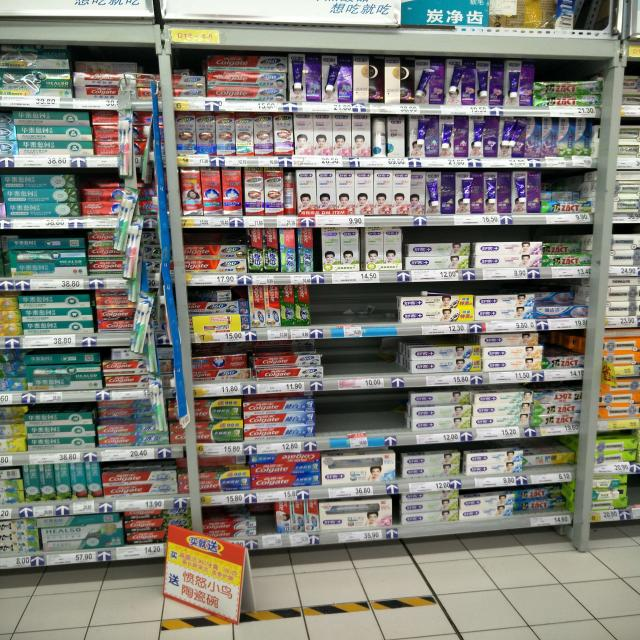100- O.O.S: (317, 393, 403, 444), (311, 285, 397, 335), (326, 340, 388, 388)
